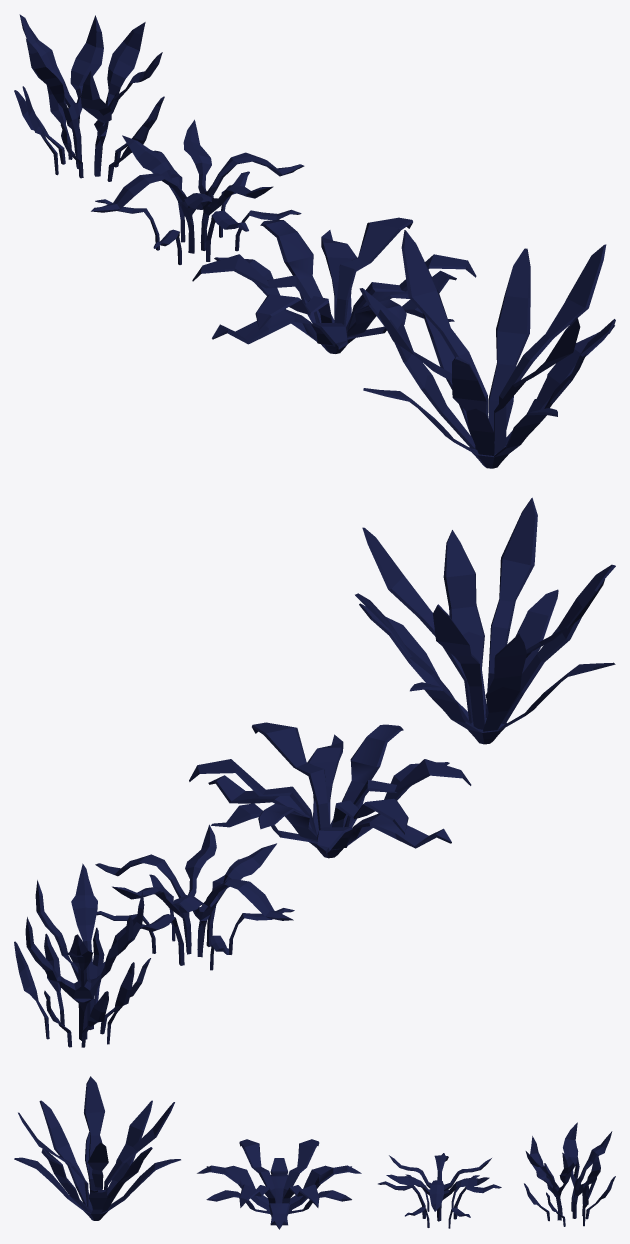
The model's file is cave_vegetation.fbx.
3 renders of one model, top to bottom at view 1: azimuth 30°, elevation 25°; view 2: azimuth 150°, elevation 25°; view 3: azimuth 270°, elevation 25°, orthographic. The views are drawn at different scales.
Visible parts, largest first — view 1: follliage_2_healthy, follliage_2_dying, folliage_1_healthy, folliage_1_dying; view 2: follliage_2_healthy, follliage_2_dying, folliage_1_healthy, folliage_1_dying; view 3: follliage_2_healthy, follliage_2_dying, folliage_1_healthy, folliage_1_dying.
Boxes of the visible parts, x1,y1,x2,y2 form: follliage_2_healthy: [359, 230, 615, 468]; follliage_2_dying: [192, 217, 476, 353]; folliage_1_healthy: [14, 14, 164, 181]; folliage_1_dying: [91, 119, 304, 264]; follliage_2_healthy: [355, 497, 615, 744]; follliage_2_dying: [189, 722, 471, 858]; folliage_1_healthy: [14, 863, 150, 1047]; folliage_1_dying: [95, 824, 294, 970]; follliage_2_healthy: [14, 1076, 180, 1220]; follliage_2_dying: [197, 1139, 361, 1229]; folliage_1_healthy: [524, 1122, 615, 1226]; folliage_1_dying: [378, 1153, 501, 1228].
Bounding box in the file's own units: 1.03 × 3.61 × 0.7432.
